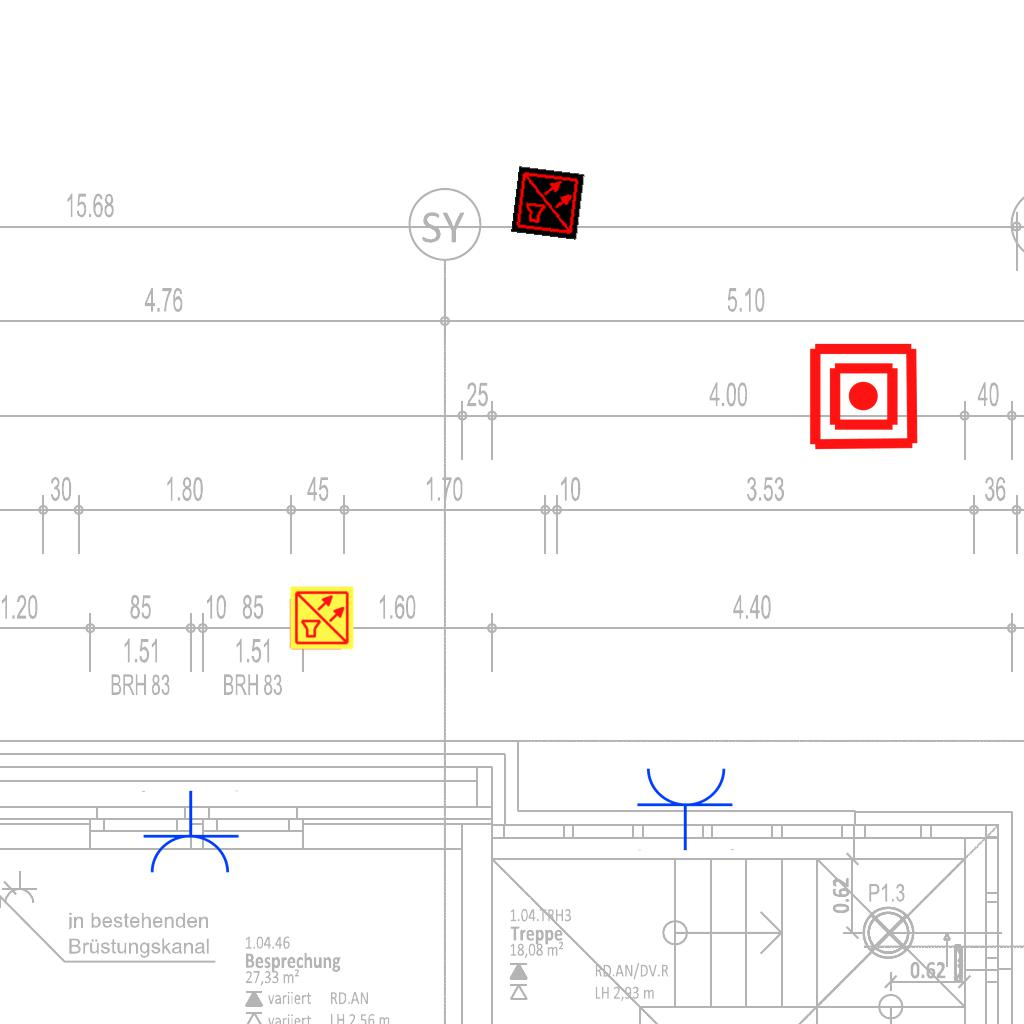NAM-Nichtautomatischer_Melder: (807, 340, 920, 453)
OKW_Multisensormelder_(Kombination_optischer_Rauch-Kahlenmonoxid_Waerme-Melder): (511, 166, 585, 240), (289, 585, 355, 651)
Schukosteckdose_einfach: (140, 790, 240, 877), (636, 764, 736, 851)
